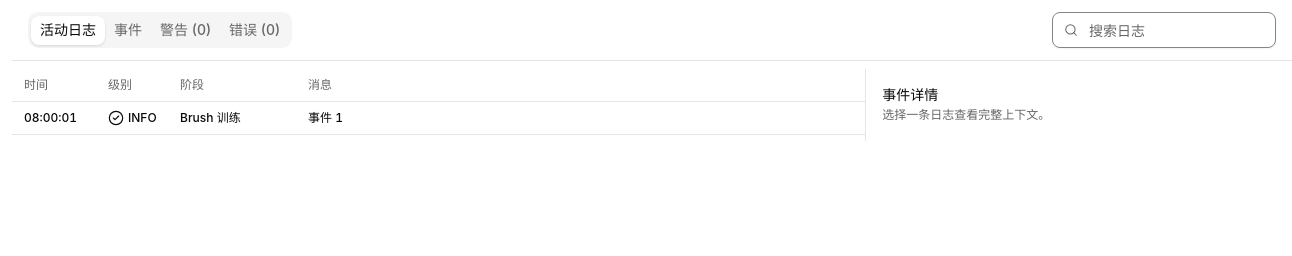
Test: ActivityWorkbench › retains last-good rows on refresh failure and offers a safe retry
Expected: the text "事件 1" is shown, [308,110,343,125]
In the field named "搜索活动记录": (1164, 30) [1052,12,1276,48], type "失败"
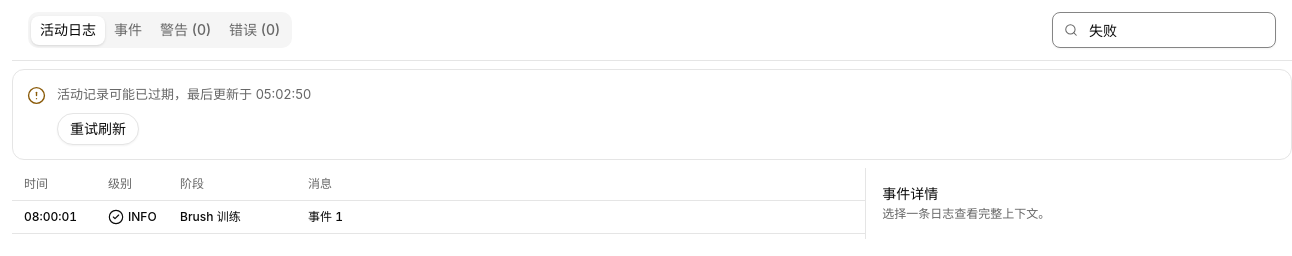
Expected: the text "事件 1" is shown, [308,209,343,224]
Now the text "活动记录可能已过期，最后更新于 05:02:50" is shown, box [57,86,311,102]
Click the button "重试刷新": (98, 129) [57,113,139,145]
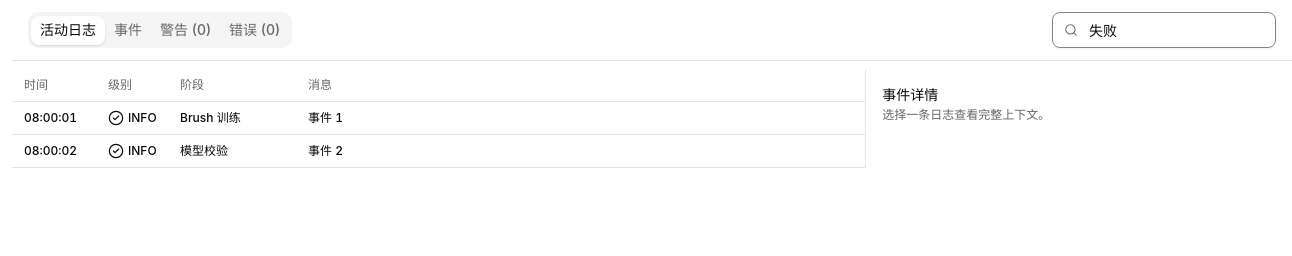
Now the text "事件 2" is shown, box [308,143,343,158]
